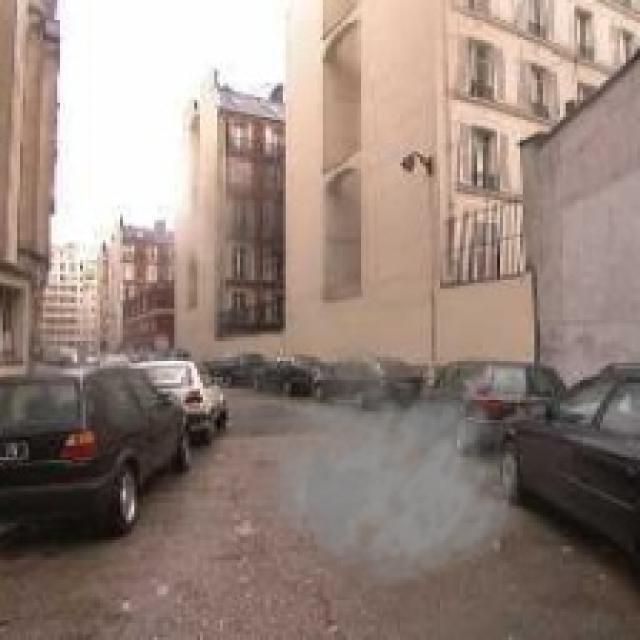Smoke: (246, 354, 528, 589)
